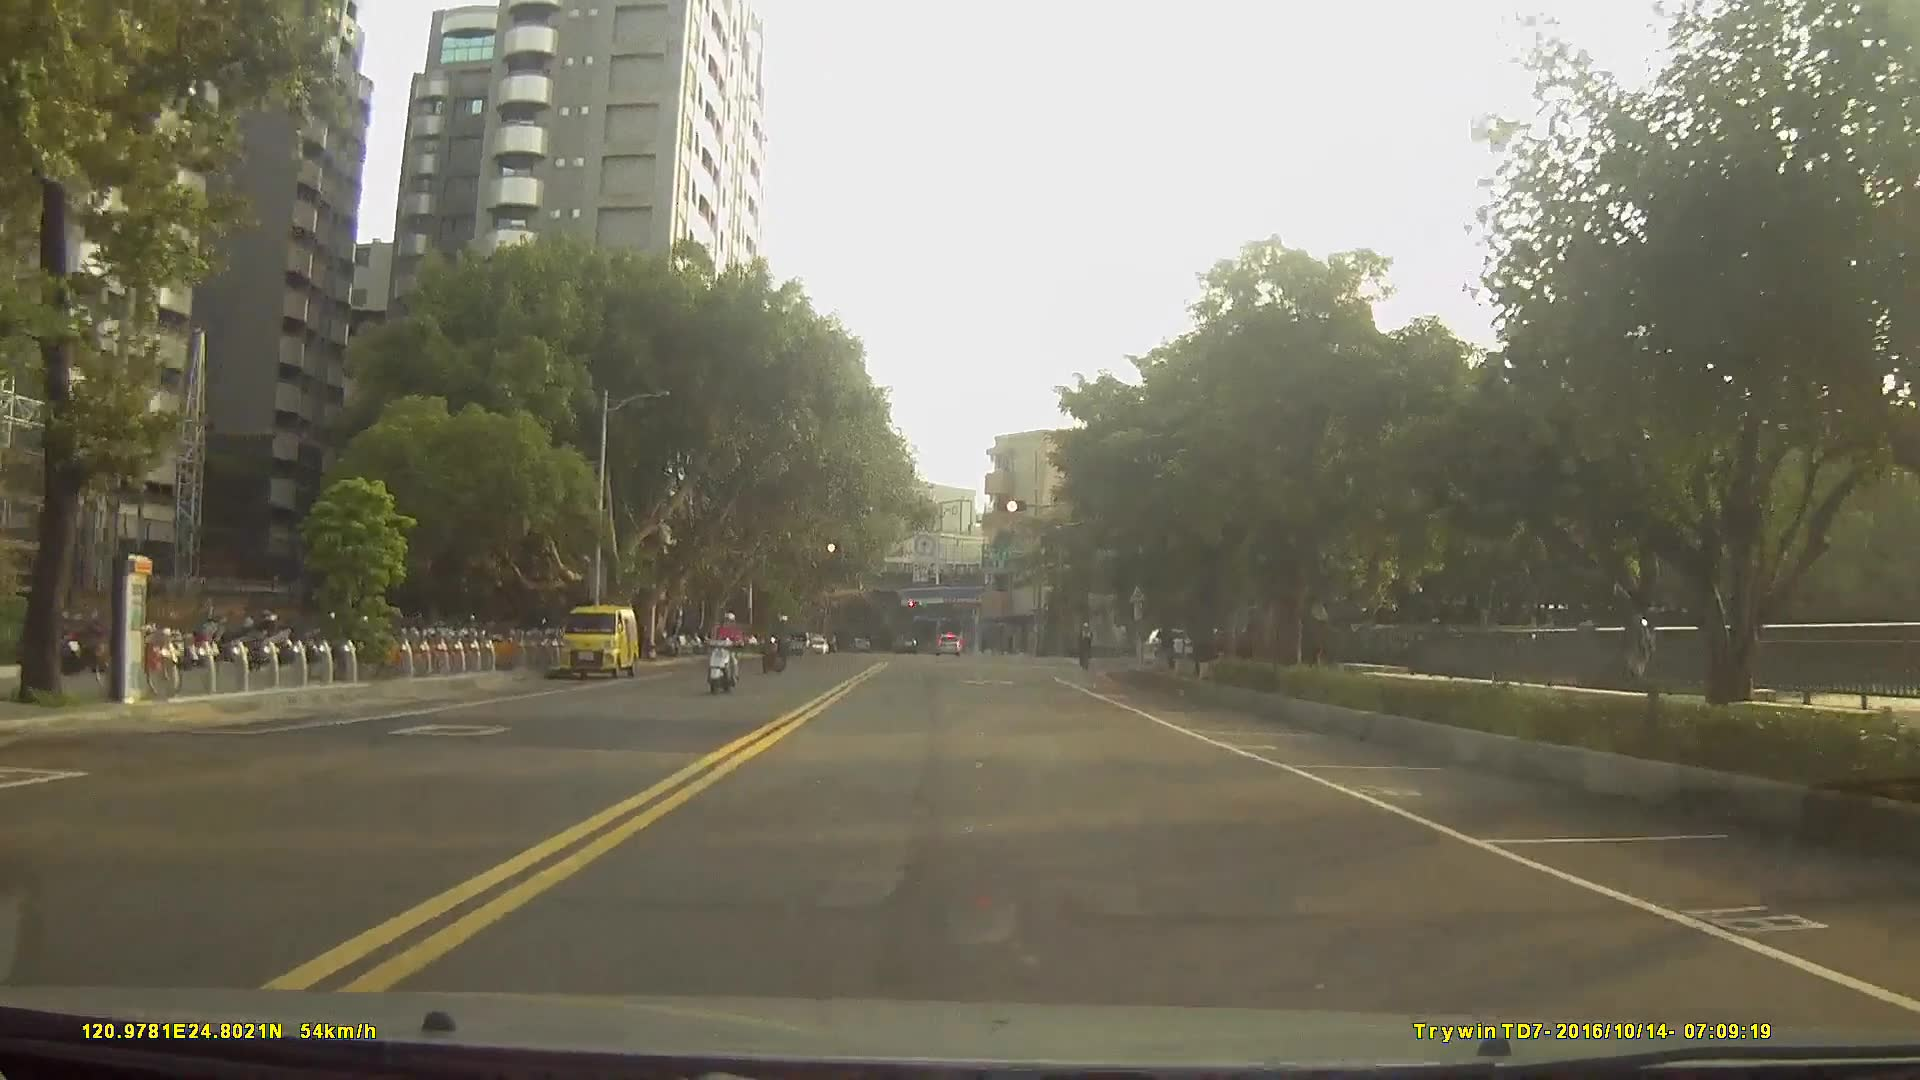pedestrian: (1111, 614, 1131, 660)
rider: (704, 610, 748, 694), (761, 609, 794, 671), (1076, 619, 1098, 671)
vehicle: (934, 628, 963, 654)
